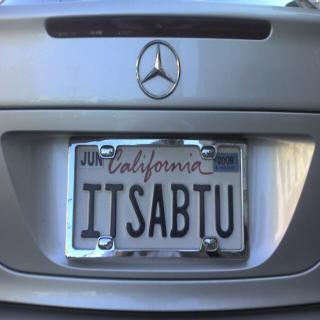license: (67, 137, 251, 261)
